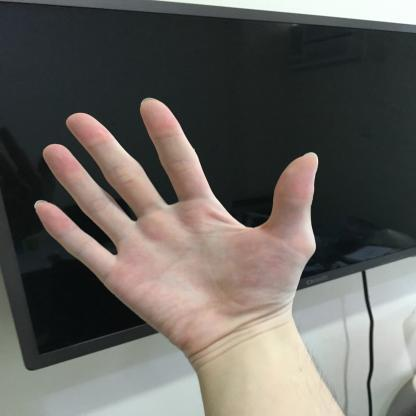bare_hand: (26, 92, 324, 360)
